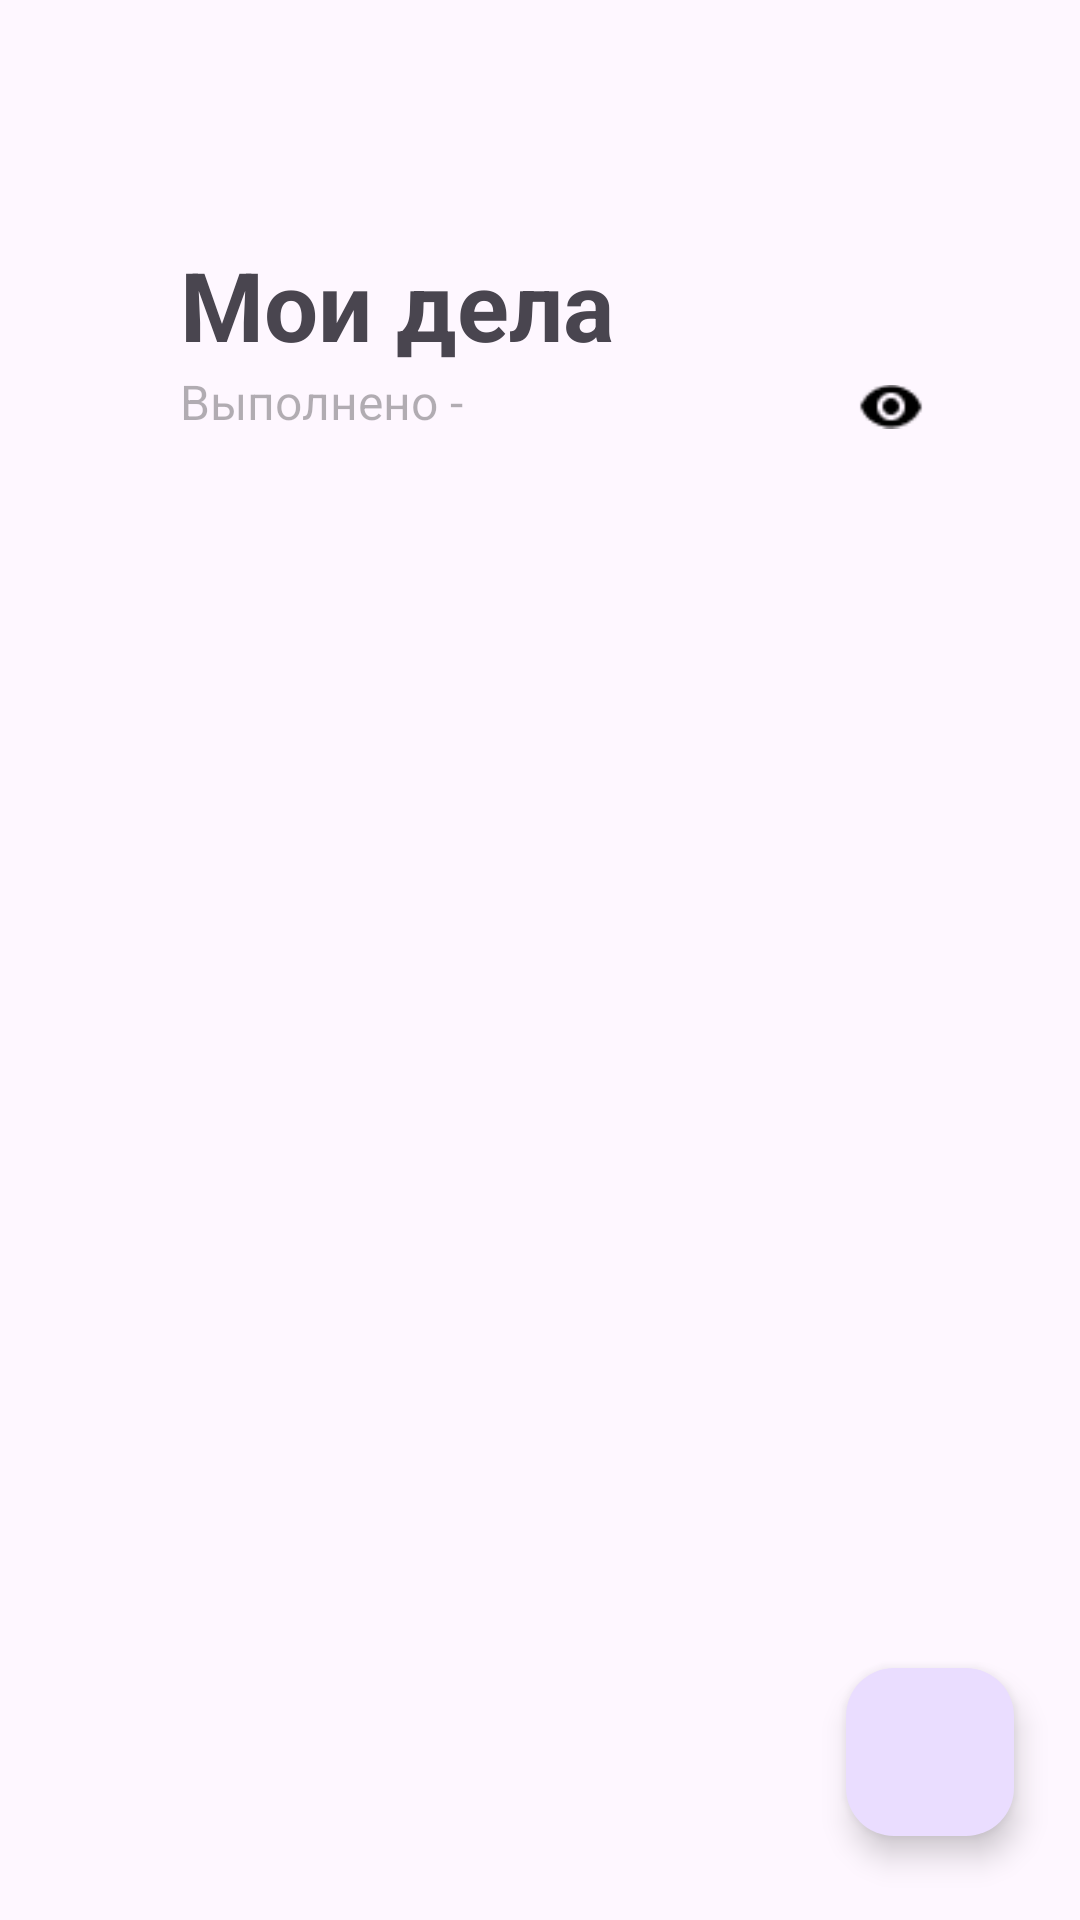

Screen size 1080px×1920px. Icon name, then its center in pixels as (x,y):
visibility: (891,407)
